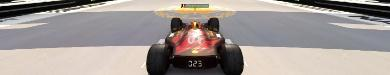Car: (145, 5, 244, 74)
